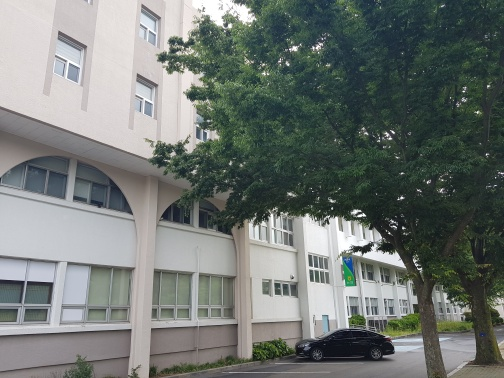Main Building of University: (11, 4, 417, 333), (16, 147, 237, 242), (333, 248, 359, 293)
